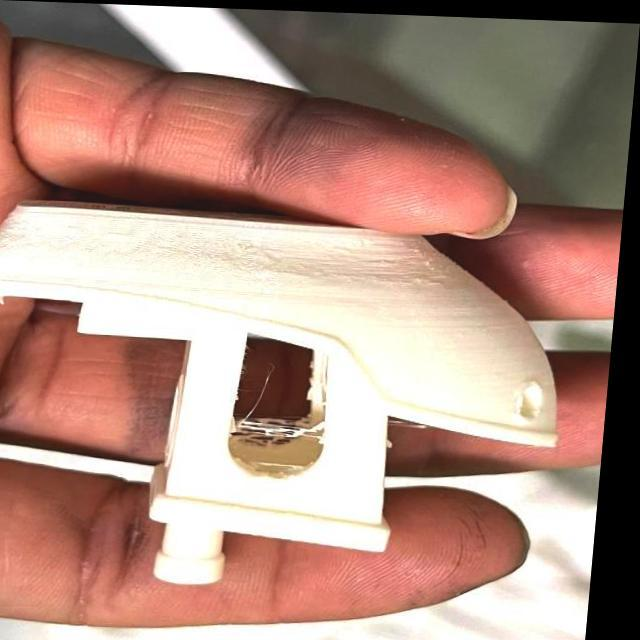stringing: (237, 416, 331, 442)
